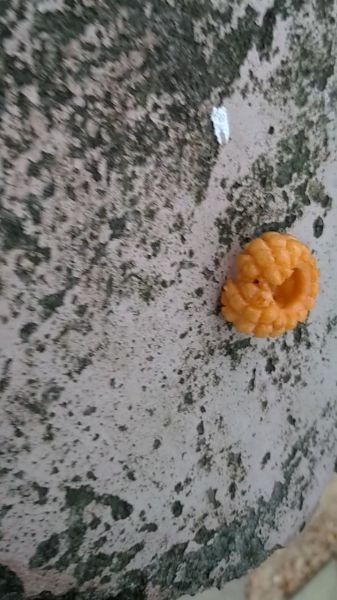eggs: (210, 227, 325, 341)
